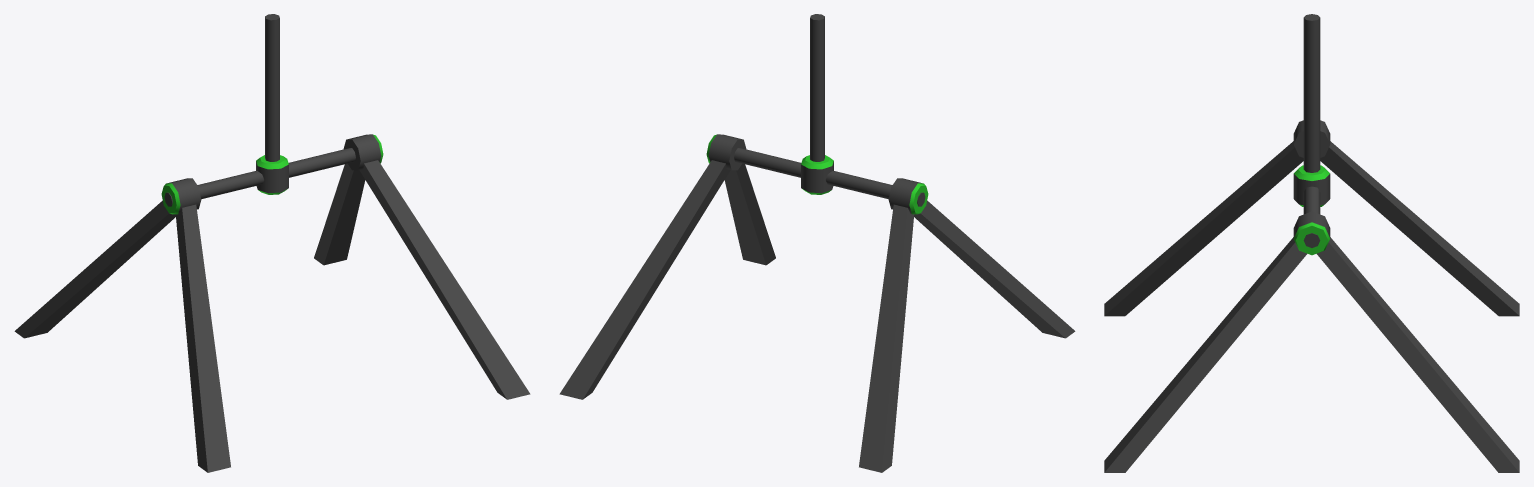
The model's file is target-rotating-stand-green.glb.
3 views of the same model, side by side, from view 1: azimuth 30°, elevation 25°; view 2: azimuth 150°, elevation 25°; view 3: azimuth 270°, elevation 25° (orthographic). The views are drawn at different scales.
Parts seen in each view (by area): view 1: greenStand; view 2: greenStand; view 3: greenStand.
Boxes of the visible parts, left/top/right/bottom form: greenStand: left=14, top=14, right=530, bottom=472; greenStand: left=559, top=14, right=1075, bottom=472; greenStand: left=1104, top=14, right=1519, bottom=472.
Bounding box in the file's own units: 2.69 × 2.75 × 2.79.
Materials: 1 (1 with a texture image).
